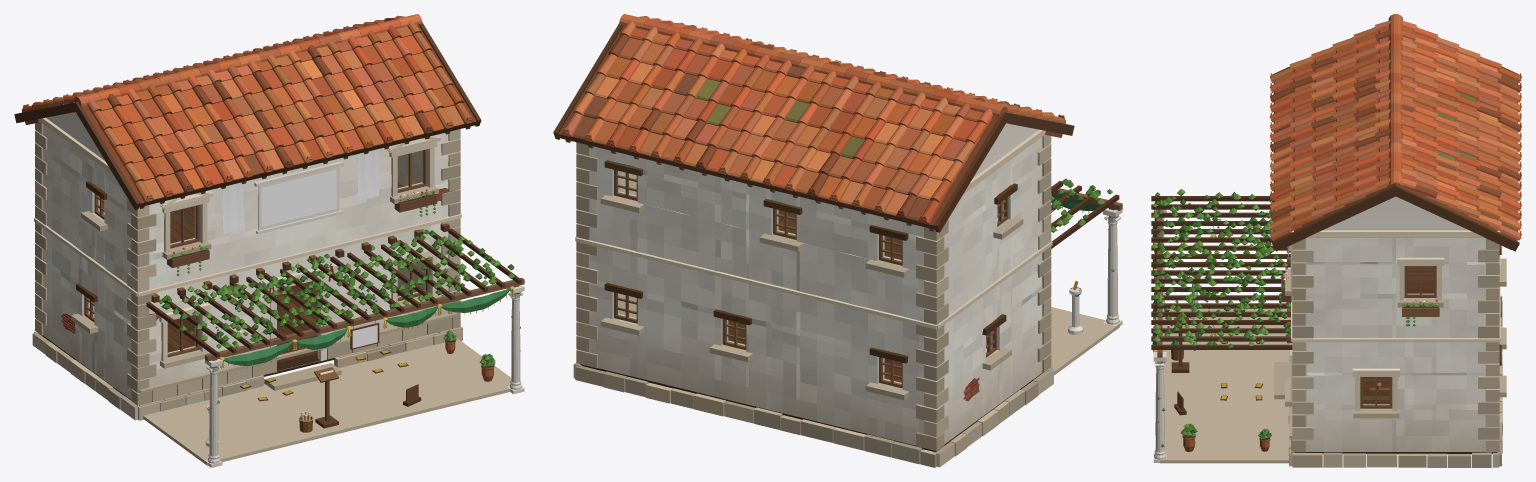
File: civ_school.glb
3 views of the same model, side by side, from view 1: azimuth 30°, elevation 25°; view 2: azimuth 150°, elevation 25°; view 3: azimuth 270°, elevation 25° (orthographic). The views are drawn at different scales.
Parts seen in each view (by area): view 1: House, Walls, Rooms; view 2: House, Walls, Rooms; view 3: House, Walls, Rooms.
Boxes of the visible parts, x1,y1,x2,y2 form: House: [14, 14, 524, 467]; Walls: [42, 112, 456, 399]; Rooms: [93, 150, 424, 364]; House: [553, 14, 1122, 467]; Walls: [580, 123, 1042, 445]; Rooms: [619, 171, 998, 382]; House: [1151, 14, 1521, 467]; Walls: [1305, 196, 1485, 451]; Rooms: [1363, 266, 1434, 404].
Size of the model in its own units: 6.91 by 5.48 by 6.37.
Materials: 10 (10 with a texture image).
